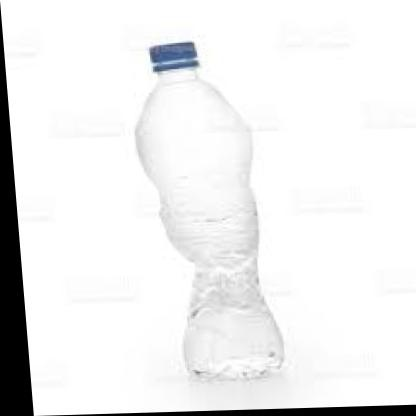trash: (136, 42, 283, 378)
